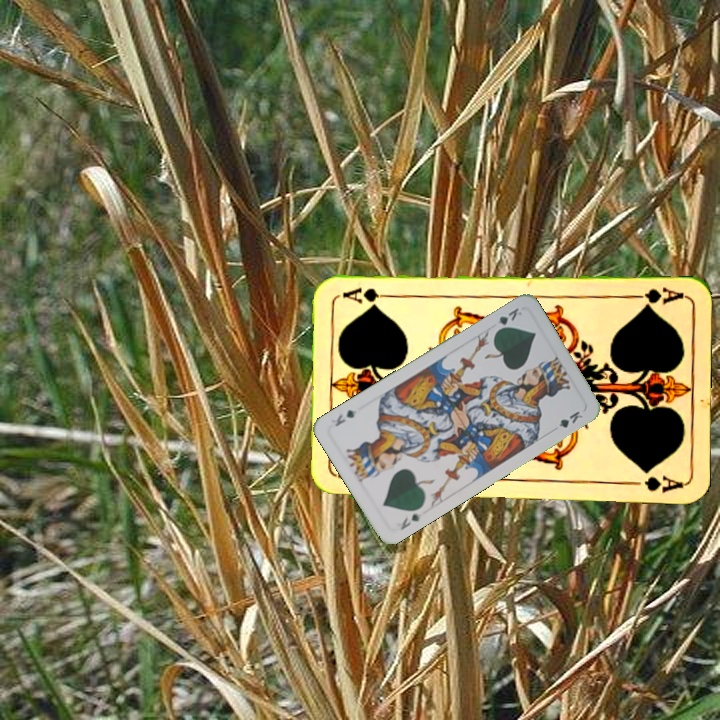GA: (626, 283, 685, 310)
GK: (491, 303, 524, 335), (396, 509, 425, 532)
